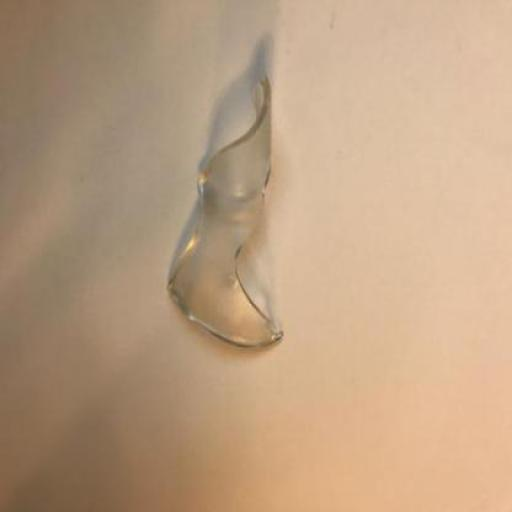glass: (169, 74, 284, 346)
